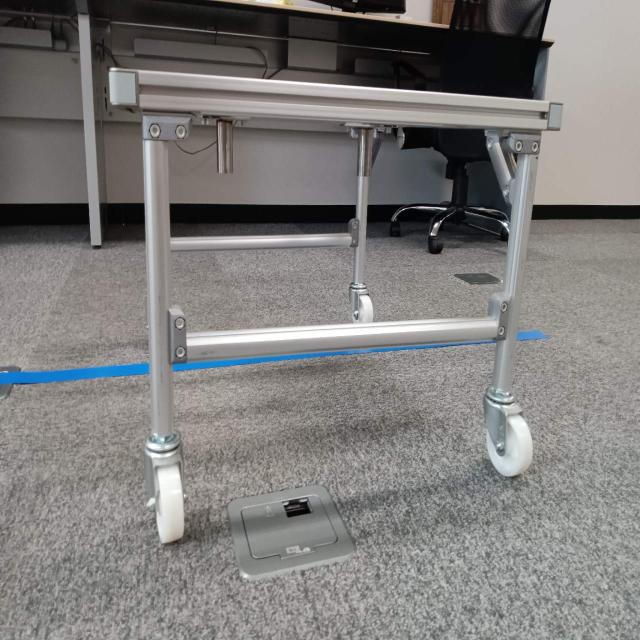side: (136, 63, 543, 362)
